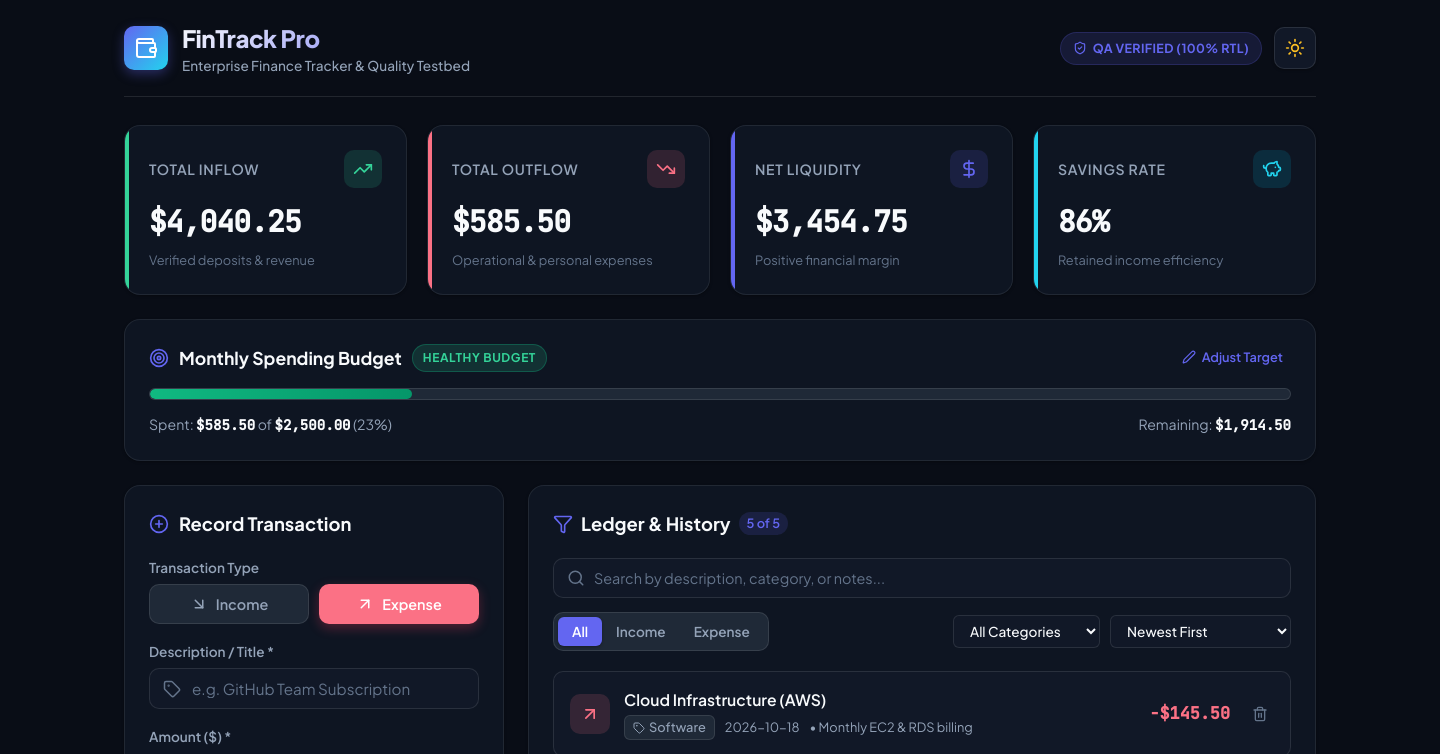
FinTrack Pro Integration Suite › filters transactions using live search input
The width and height of the screenshot is (1440, 754).
Type "Figma" into the field with test id "search-input" at (922, 578), box [553, 558, 1291, 598]
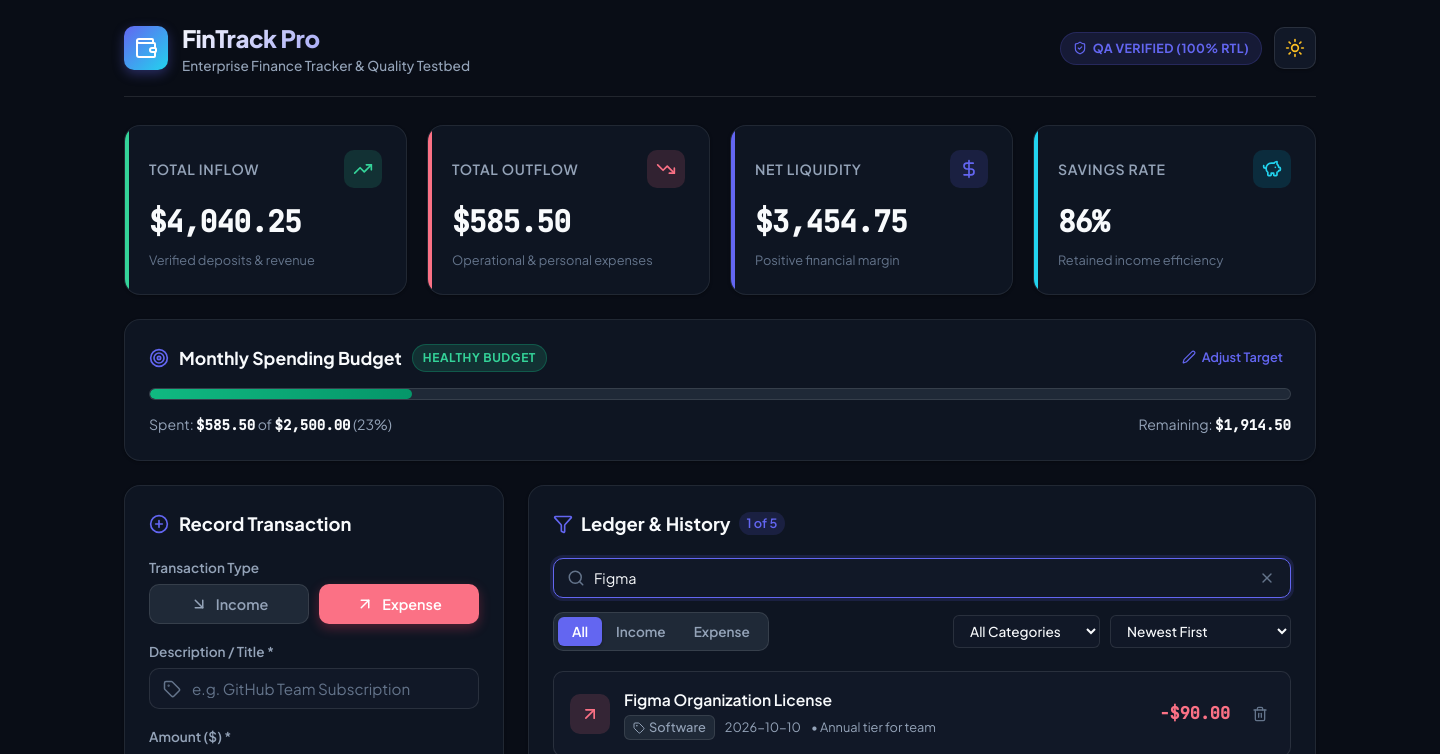
Expected: the text "Figma Organization License" is shown, [624, 690, 832, 709]
Now the text "AWS" is gone
// Clear search
Click the button with test id "clear-search-btn" at (1267, 578), box [1255, 566, 1279, 590]
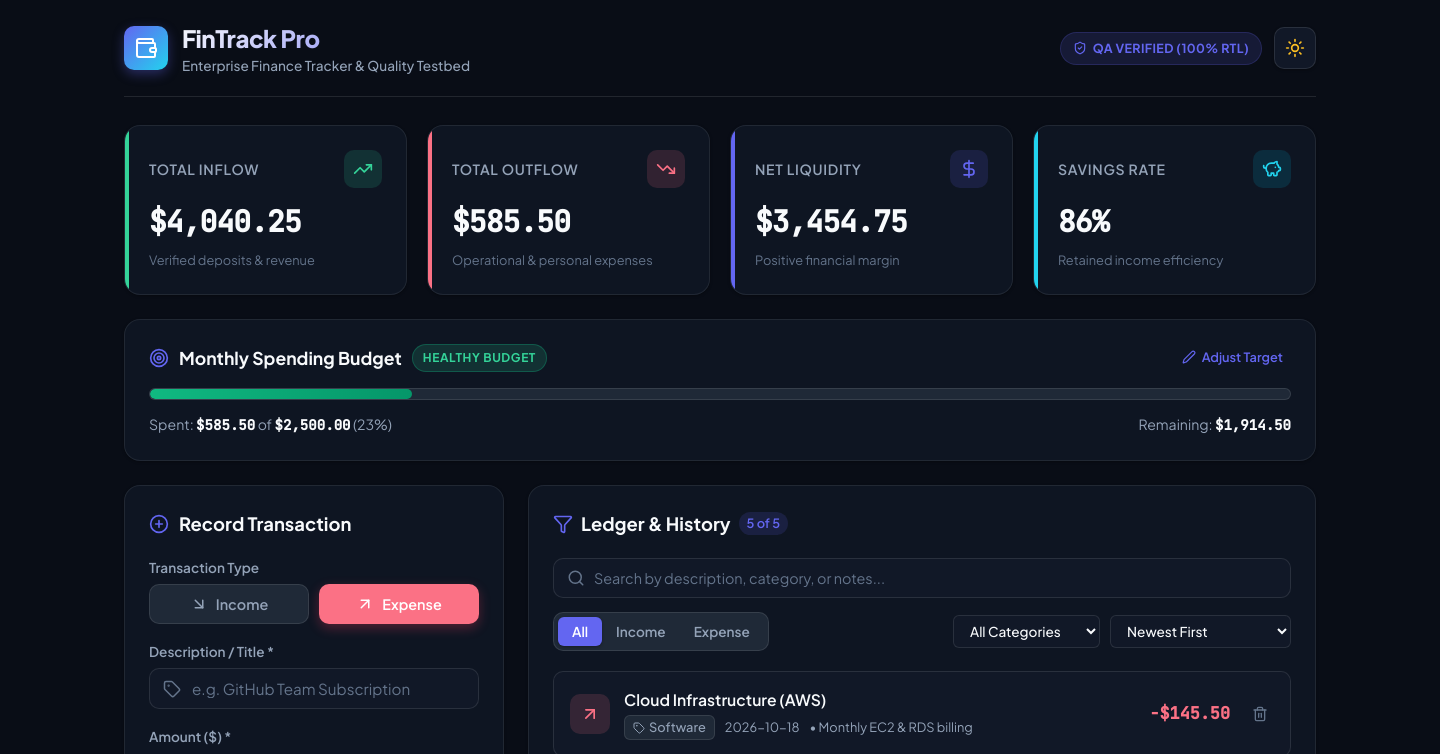
Now the text "Cloud Infrastructure (AWS)" is shown, box [624, 690, 826, 709]
